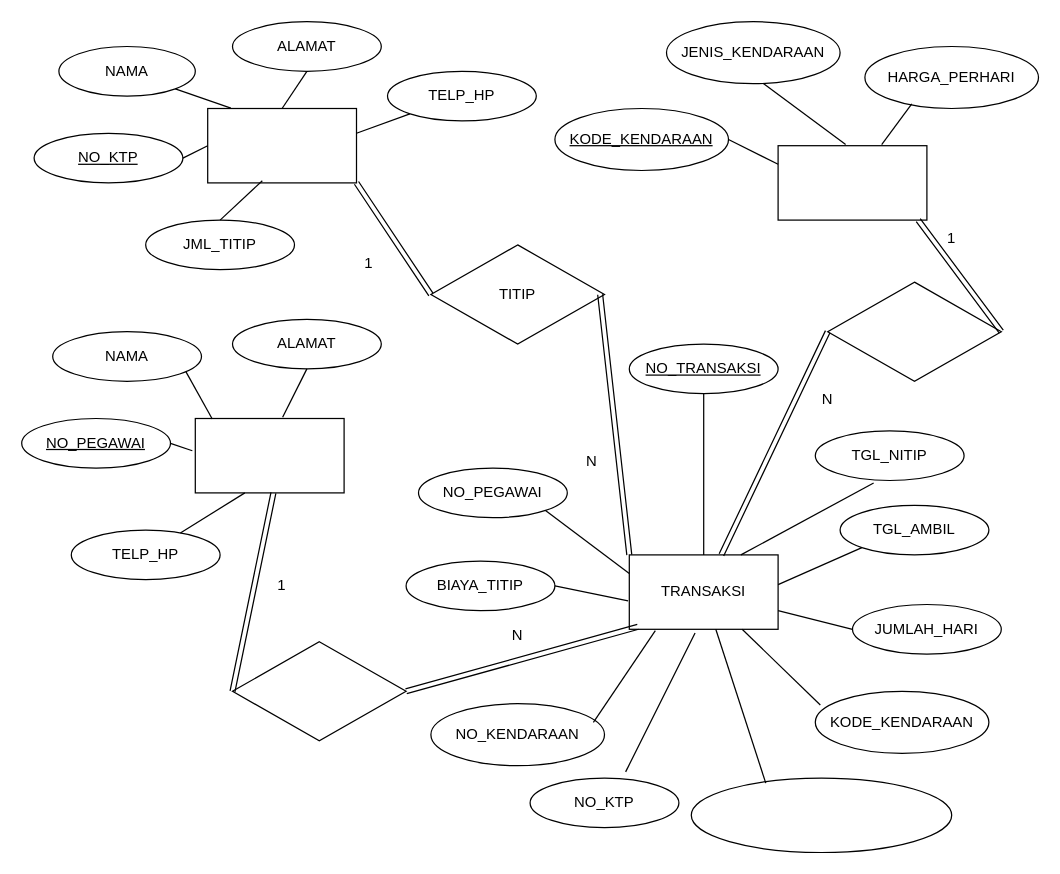
Image size: 1060x874. Some labels were removed from this diagram. Here are the shapes that lost their labels. From the top down, the centre of each, then its label:
the point at 281,145: PELANGGAN
the point at 852,182: HargaTitipPerhari
the point at 913,331: GUNAKAN
the point at 269,455: PETUGAS
the point at 318,690: KERJA
the point at 821,814: KODE_PENERIMA_UANG
